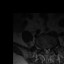CCS_normal: (45, 46, 48, 55)
LFS_severe_stenosis: (50, 45, 52, 51)
LLS_normal: (48, 47, 50, 53)
RFS_severe_stenosis: (41, 45, 43, 51)
RLS_stenosis: (43, 46, 45, 53)
